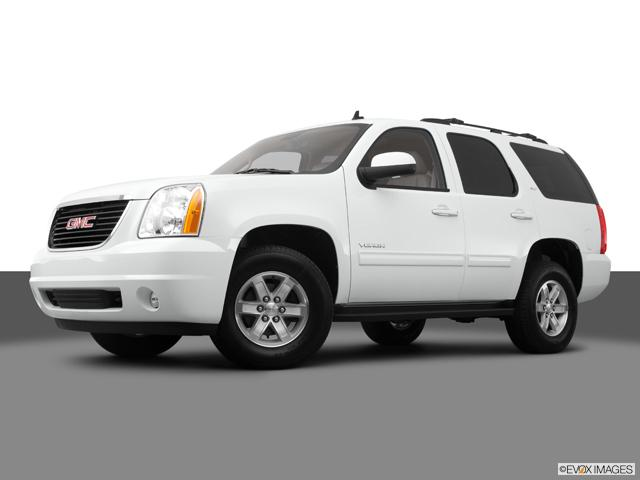car: (23, 69, 640, 402)
